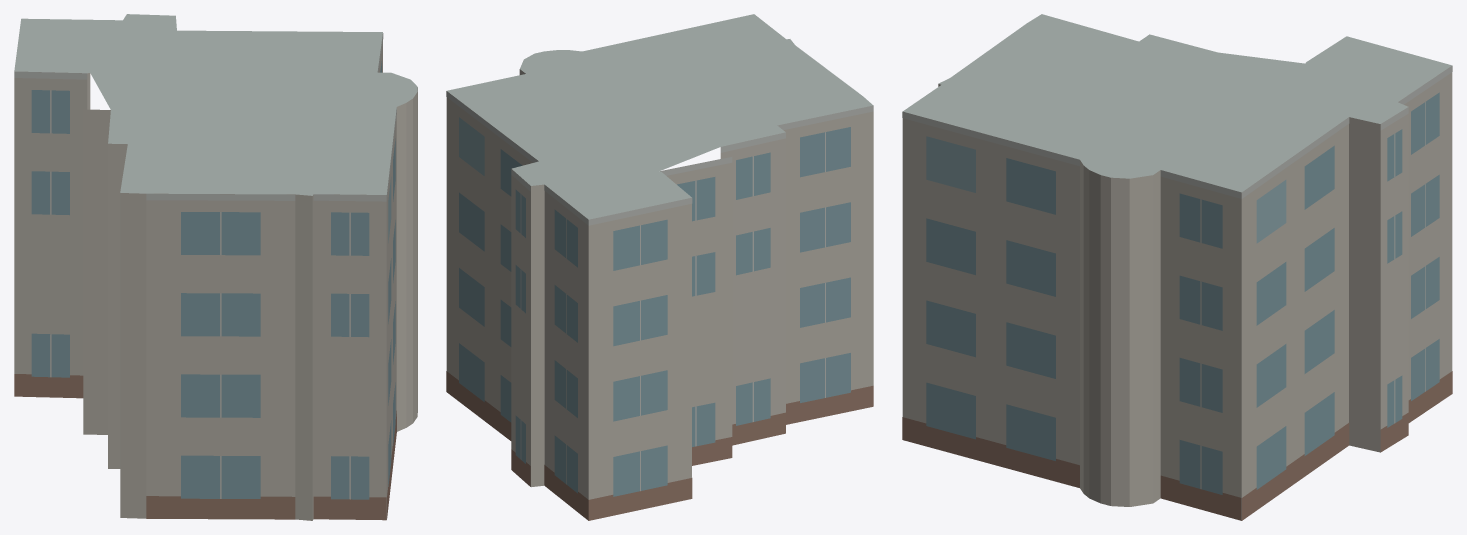
File: survey-upis-33029628.glb
3 views of the same model, side by side, from view 1: azimuth 30°, elevation 25°; view 2: azimuth 150°, elevation 25°; view 3: azimuth 270°, elevation 25° (orthographic). The views are drawn at different scales.
Visible parts, largest first — view 1: survey-upis-33029628.tmp; view 2: survey-upis-33029628.tmp; view 3: survey-upis-33029628.tmp.
Boxes of the visible parts, left/top/right/bottom form: survey-upis-33029628.tmp: left=14, top=14, right=417, bottom=520; survey-upis-33029628.tmp: left=446, top=14, right=873, bottom=520; survey-upis-33029628.tmp: left=902, top=14, right=1452, bottom=520.
Bounding box in the file's own units: 14.22 × 12.2 × 18.52.
